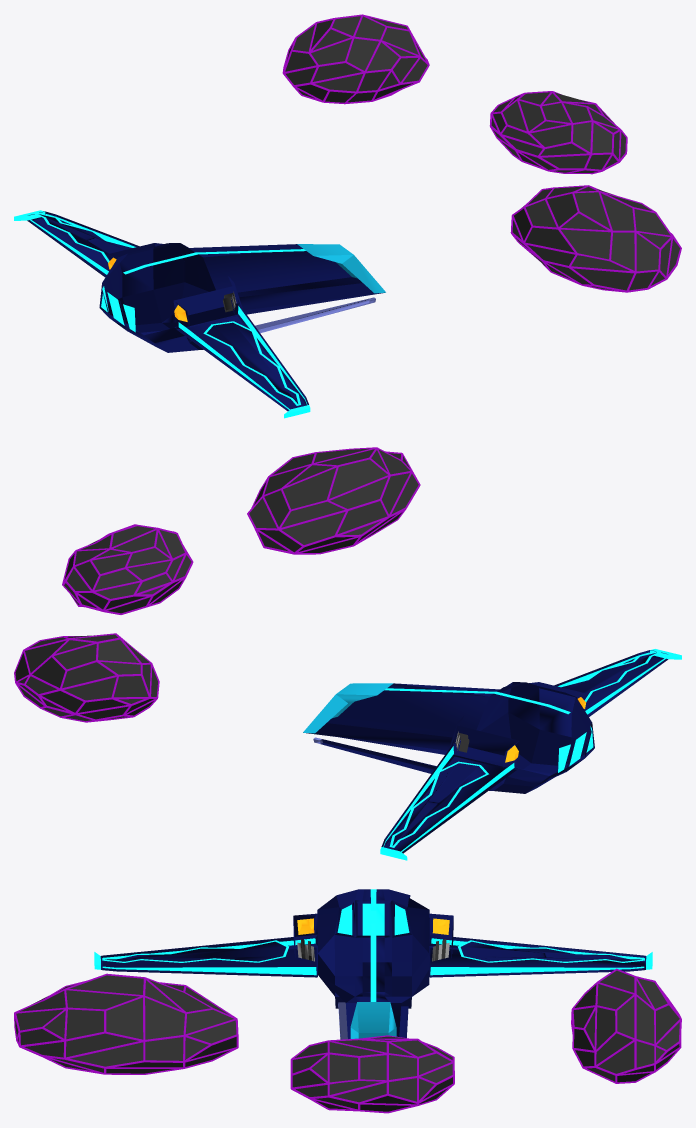
The model's file is lowpolyspaceship.fbx.
3 renders of one model, top to bottom at view 1: azimuth 30°, elevation 25°; view 2: azimuth 150°, elevation 25°; view 3: azimuth 270°, elevation 25°, orthographic. The views are drawn at different scales.
Parts seen in each view (by area): view 1: Cube, Asteroida_2_3, Wing, Asteroida_3_3, Asteroida_3, Asteroida_2_1, Asteroida_3_1, Asteroida; view 2: Cube, Asteroida_2_3, Wing, Asteroida_3_3, Asteroida_3, Asteroida_2_1, Asteroida_3_1, Asteroida; view 3: Asteroida_2_3, Wing, Cube, Asteroida_3, Asteroida_3_3, Asteroida_2_1, Asteroida, Asteroida_3_1.
Boxes of the visible parts, x1,y1,x2,y2 form: Cube: (99, 243, 385, 352); Asteroida_2_3: (512, 186, 679, 290); Wing: (14, 210, 310, 418); Asteroida_3_3: (285, 16, 427, 102); Asteroida_3: (491, 92, 625, 172); Asteroida_2_1: (510, 185, 681, 292); Asteroida_3_1: (282, 14, 429, 104); Asteroida: (489, 91, 627, 174); Cube: (303, 682, 594, 793); Asteroida_2_3: (249, 448, 418, 552); Wing: (380, 649, 681, 860); Asteroida_3_3: (15, 634, 157, 721); Asteroida_3: (64, 526, 191, 613); Asteroida_2_1: (247, 447, 420, 554); Asteroida_3_1: (14, 633, 159, 722); Asteroida: (62, 524, 193, 614); Asteroida_2_3: (15, 975, 236, 1073); Wing: (94, 913, 652, 977); Cube: (317, 889, 429, 1039); Asteroida_3: (292, 1036, 452, 1111); Asteroida_3_3: (572, 970, 679, 1082); Asteroida_2_1: (14, 973, 238, 1074); Asteroida: (290, 1035, 454, 1113); Asteroida_3_1: (571, 968, 681, 1083).
Size of the model in its own units: 1072 by 330 by 1198.
